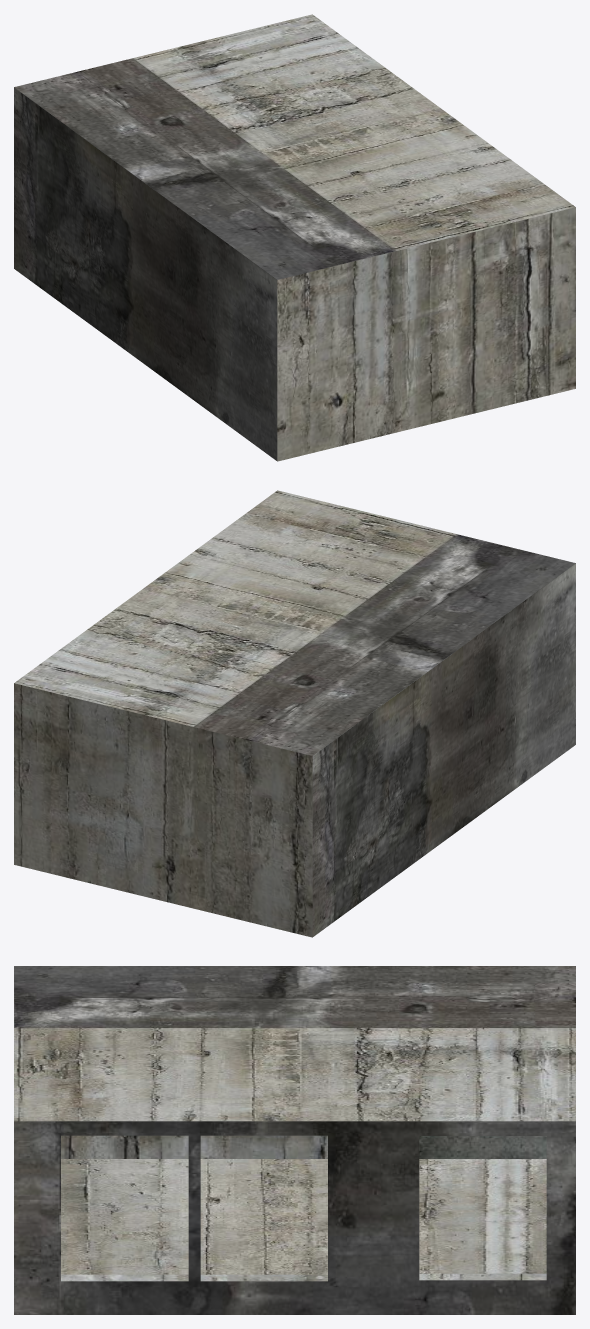
3 renders of one model, top to bottom at view 1: azimuth 30°, elevation 25°; view 2: azimuth 150°, elevation 25°; view 3: azimuth 270°, elevation 25°, orthographic. The views are drawn at different scales.
Parts seen in each view (by area): view 1: Cube.069; view 2: Cube.069; view 3: Cube.069.
Boxes of the visible parts, x1=… form: Cube.069: x1=14, y1=14, x2=575, y2=461; Cube.069: x1=14, y1=490, x2=575, y2=937; Cube.069: x1=14, y1=966, x2=575, y2=1314.
Size of the model in its own units: 1.19 by 0.6945 by 1.83.
Materials: 1 (1 with a texture image).
